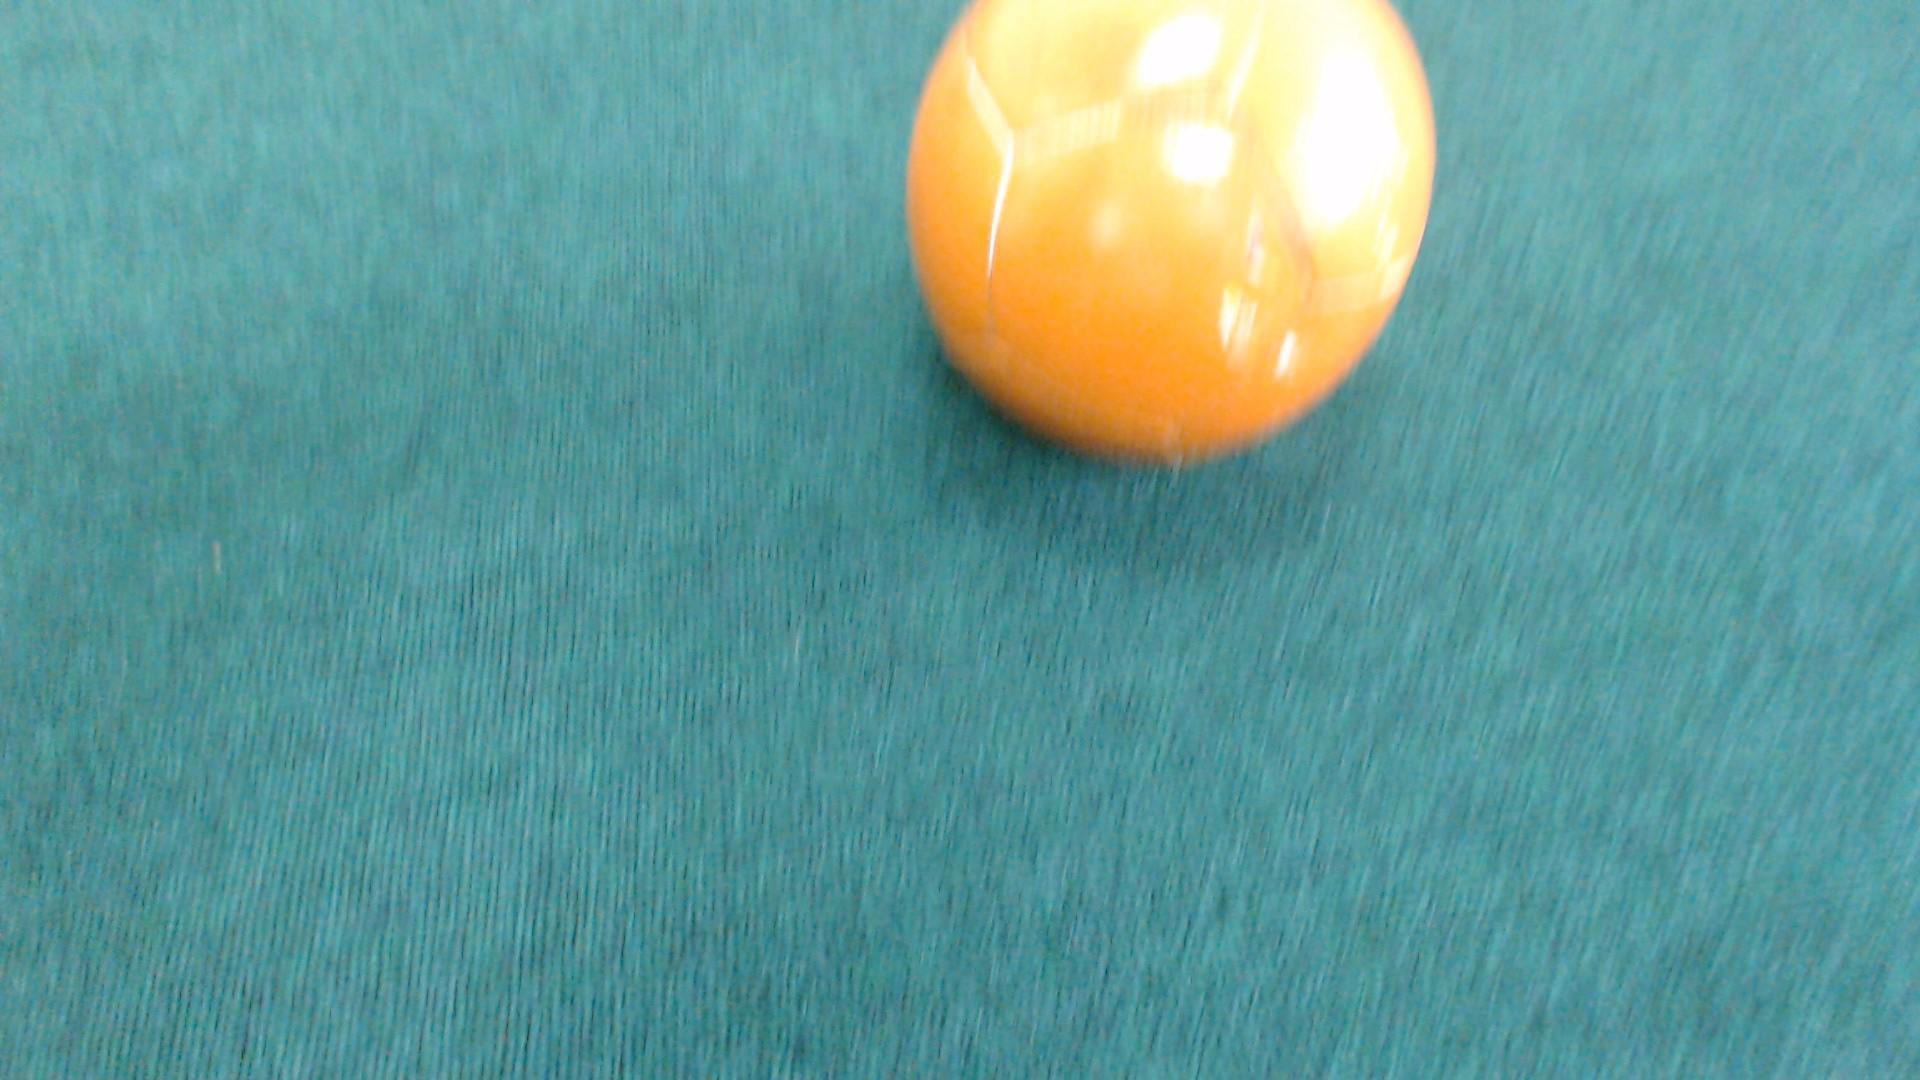bola: (806, 4, 1482, 467)
